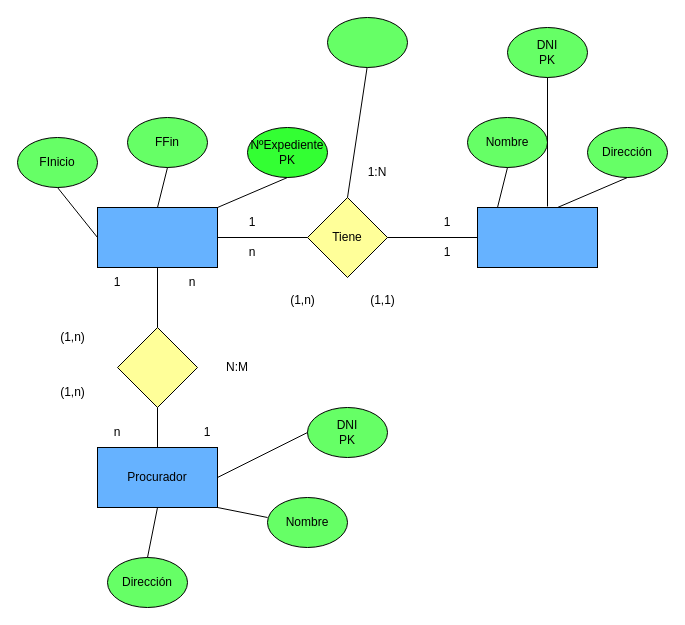
Image size: 685x625. Some labels were removed from this diagram. Each missing label, with the box of its shape:
Asuntos: (96, 206, 218, 268)
Cliente: (476, 206, 598, 268)
Estado: (326, 16, 408, 68)
Lleva: (116, 326, 198, 408)
